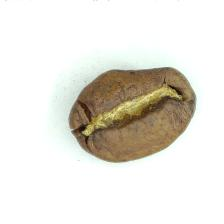NG: (86, 64, 196, 138)
